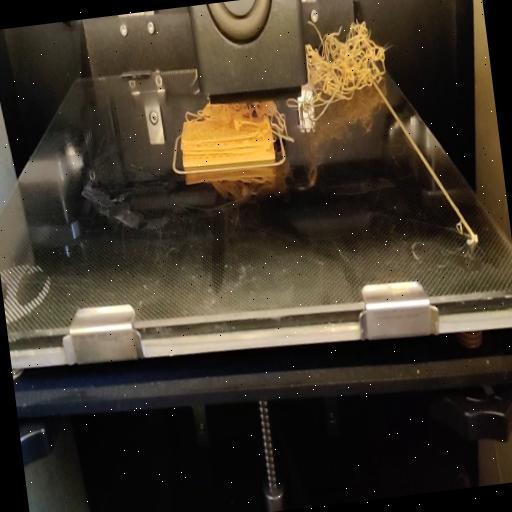spaghetti: (302, 10, 396, 122), (202, 94, 290, 142), (290, 95, 316, 121)
